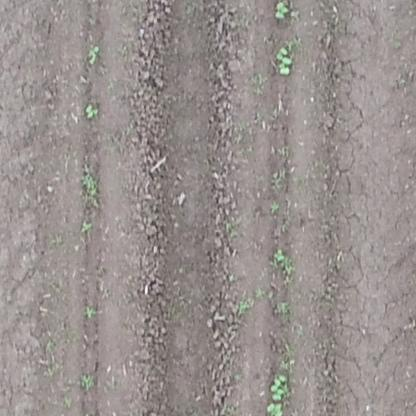vc: (274, 46, 294, 74), (269, 375, 287, 400), (81, 103, 100, 118), (274, 2, 289, 19), (266, 405, 283, 416), (87, 44, 101, 56)
